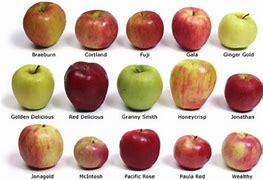apple: (64, 64, 123, 117), (163, 57, 214, 117), (62, 8, 120, 58), (6, 60, 55, 105), (219, 125, 263, 174), (117, 64, 164, 109), (23, 6, 71, 49), (169, 3, 211, 51), (19, 126, 65, 169), (219, 76, 263, 117), (119, 130, 163, 171), (125, 6, 167, 48), (174, 130, 215, 172), (215, 8, 258, 48), (72, 131, 107, 169)
